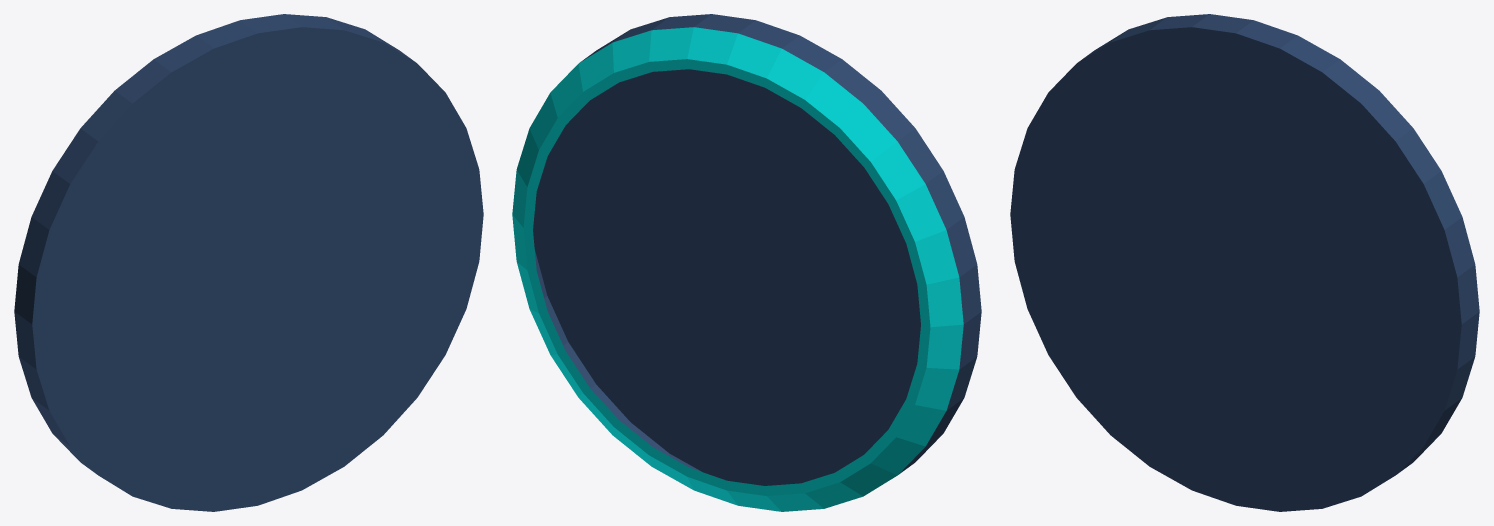
File: elevator_button_frame.fbx
3 renders of one model, left to right at view 1: azimuth 30°, elevation 25°; view 2: azimuth 150°, elevation 25°; view 3: azimuth 330°, elevation 25°, orthographic.
Parts seen in each view (by area): view 1: ElevatorButtonFrame; view 2: ElevatorButtonFrame; view 3: ElevatorButtonFrame.
Part boxes in pixels (x1=…): ElevatorButtonFrame: x1=14, y1=14, x2=483, y2=511; ElevatorButtonFrame: x1=512, y1=14, x2=981, y2=511; ElevatorButtonFrame: x1=1010, y1=14, x2=1479, y2=511.
Size of the model in its own units: 90 by 90 by 10.
